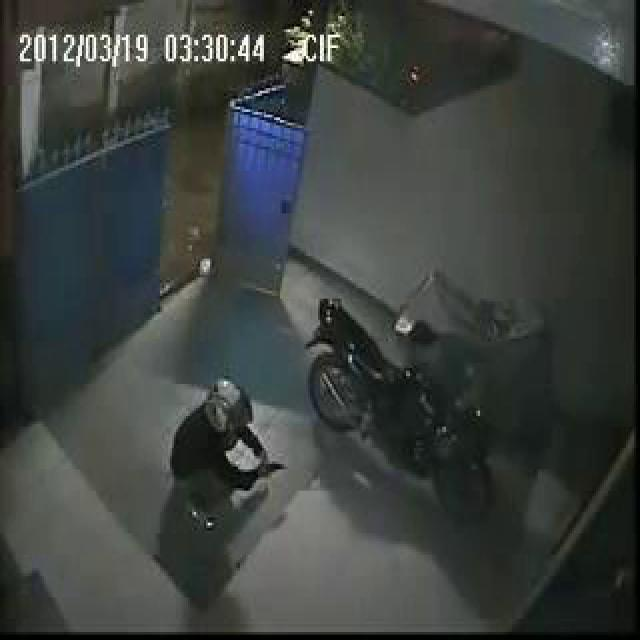stealing: (172, 256, 553, 602)
